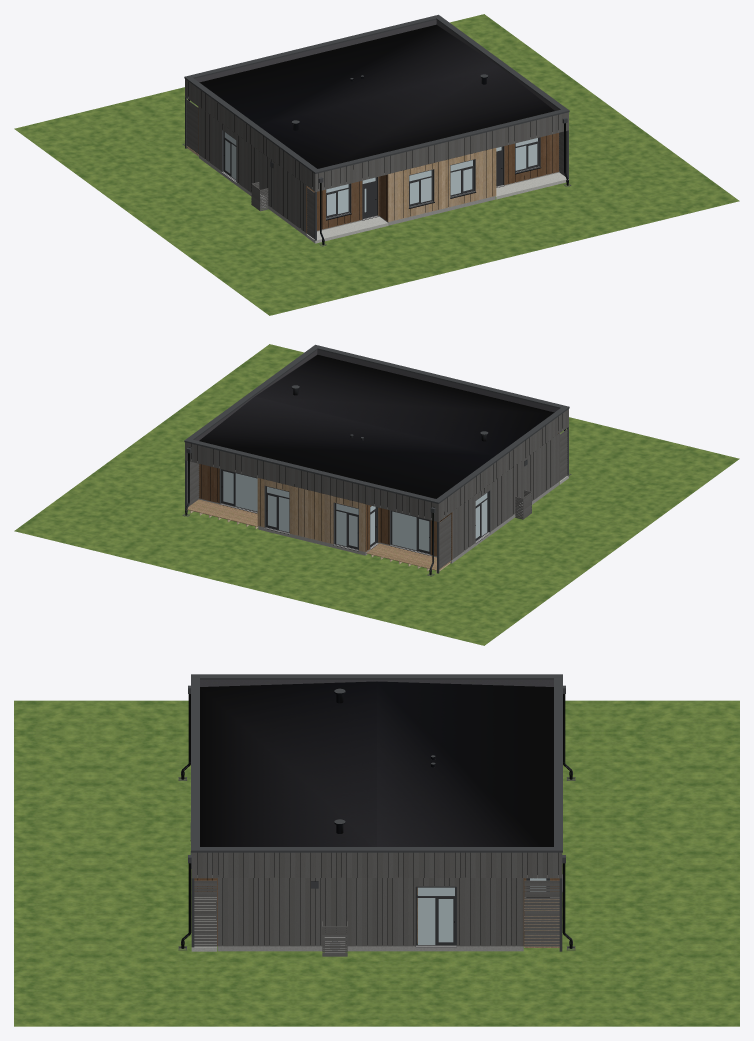
Rendered from karjaari21a_maja_lo.glb.
3 views of the same model, one above another, from view 1: azimuth 30°, elevation 25°; view 2: azimuth 150°, elevation 25°; view 3: azimuth 270°, elevation 25° (orthographic). The views are drawn at different scales.
Parts seen in each view (by area): view 1: muru|lm2, sbs|dark, laudis_tumehall|lm0, plekk|lm0, laudis_hele|lm0, klaas|glass, sbs|lm1, tuuletokkeplaat|dark, laudis_pruun|lm0, laudis_pruun|lm1, betoon_valis|lm0, plekk|lm1 (+4 smaller); view 2: muru|lm2, sbs|dark, laudis_tumehall|lm0, laudis_tumehall|lm1, klaas|glass, plekk|lm0, laudis_hele|lm1, tuuletokkeplaat|dark, sbs|lm1, plekk|lm1, pvc_antratsiit|lm0, sokliplaat|lm0 (+5 smaller); view 3: muru|lm2, sbs|dark, laudis_tumehall|lm1, plekk|lm0, tuuletokkeplaat|dark, klaas|glass, sokliplaat|lm1, sbs|lm0, plekk|lm1, sadevesi|vc, pvc_antratsiit|lm1, terrassilaud|lm1.
Part boxes in pixels (x1,y1,x2,y2): muru|lm2: [14, 14, 739, 315]; sbs|dark: [199, 24, 554, 168]; laudis_tumehall|lm0: [185, 79, 568, 238]; plekk|lm0: [184, 14, 569, 220]; laudis_hele|lm0: [388, 148, 496, 222]; klaas|glass: [225, 132, 537, 215]; sbs|lm1: [194, 19, 559, 110]; tuuletokkeplaat|dark: [188, 82, 558, 230]; laudis_pruun|lm0: [198, 106, 387, 233]; laudis_pruun|lm1: [504, 133, 559, 184]; betoon_valis|lm0: [306, 179, 568, 243]; plekk|lm1: [193, 18, 560, 198]; muru|lm2: [14, 344, 739, 645]; sbs|dark: [199, 354, 554, 498]; laudis_tumehall|lm0: [374, 409, 568, 568]; laudis_tumehall|lm1: [185, 442, 438, 521]; klaas|glass: [223, 471, 487, 551]; plekk|lm0: [184, 344, 569, 554]; laudis_hele|lm1: [257, 478, 365, 551]; tuuletokkeplaat|dark: [191, 414, 562, 554]; sbs|lm1: [194, 349, 559, 440]; plekk|lm1: [188, 348, 560, 550]; pvc_antratsiit|lm0: [335, 492, 488, 554]; sokliplaat|lm0: [258, 481, 559, 563]; muru|lm2: [14, 700, 739, 1026]; sbs|dark: [200, 681, 553, 846]; laudis_tumehall|lm1: [191, 852, 562, 956]; plekk|lm0: [190, 674, 562, 850]; tuuletokkeplaat|dark: [197, 853, 558, 945]; klaas|glass: [418, 878, 546, 944]; sokliplaat|lm1: [217, 897, 559, 951]; sbs|lm0: [200, 680, 553, 686]; plekk|lm1: [190, 762, 562, 946]; sadevesi|vc: [181, 694, 572, 948]; pvc_antratsiit|lm1: [416, 878, 549, 945]; terrassilaud|lm1: [525, 899, 559, 947].
Size of what is drawn, in the model's own units: 30.38 by 6.84 by 28.6.
99 materials, 32 textured.
